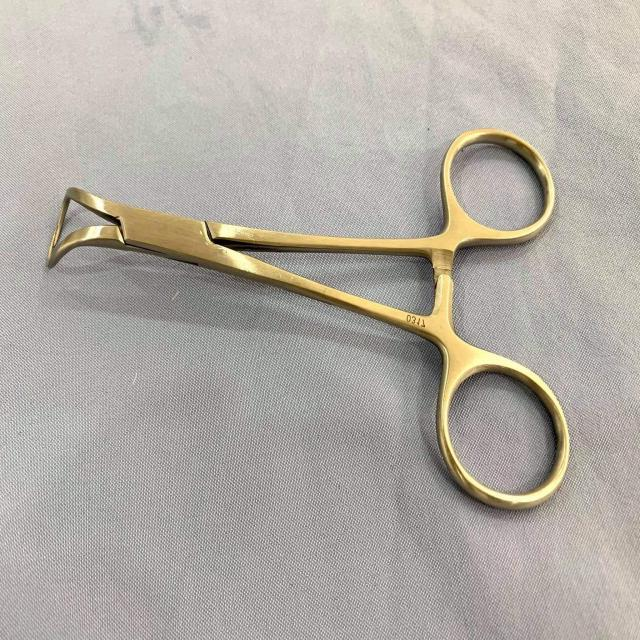Towel_clip: (42, 125, 576, 519)
